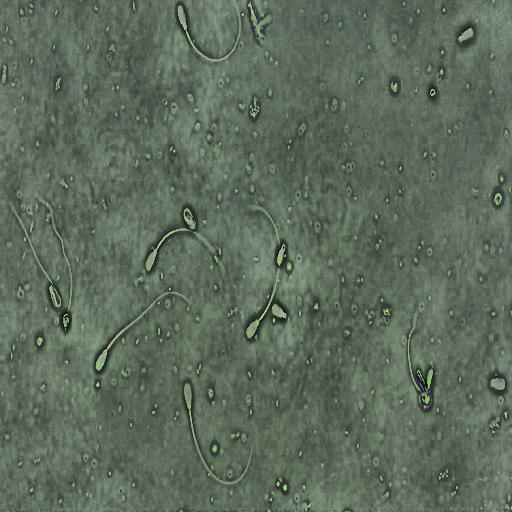coiled-tail: (185, 210, 196, 230)
dirt-particles: (249, 96, 260, 119), (61, 311, 73, 332), (493, 189, 504, 209), (390, 77, 400, 96), (428, 85, 438, 99)
folded-tail: (9, 202, 62, 308)
loose-head: (454, 23, 477, 46), (275, 240, 287, 269), (489, 375, 507, 394), (271, 301, 288, 320)
loose-tail: (33, 188, 75, 317)
normal: (84, 283, 198, 380), (177, 370, 262, 498), (140, 224, 235, 298), (241, 192, 285, 348), (8, 196, 64, 310), (169, 0, 246, 74), (181, 204, 197, 231)
